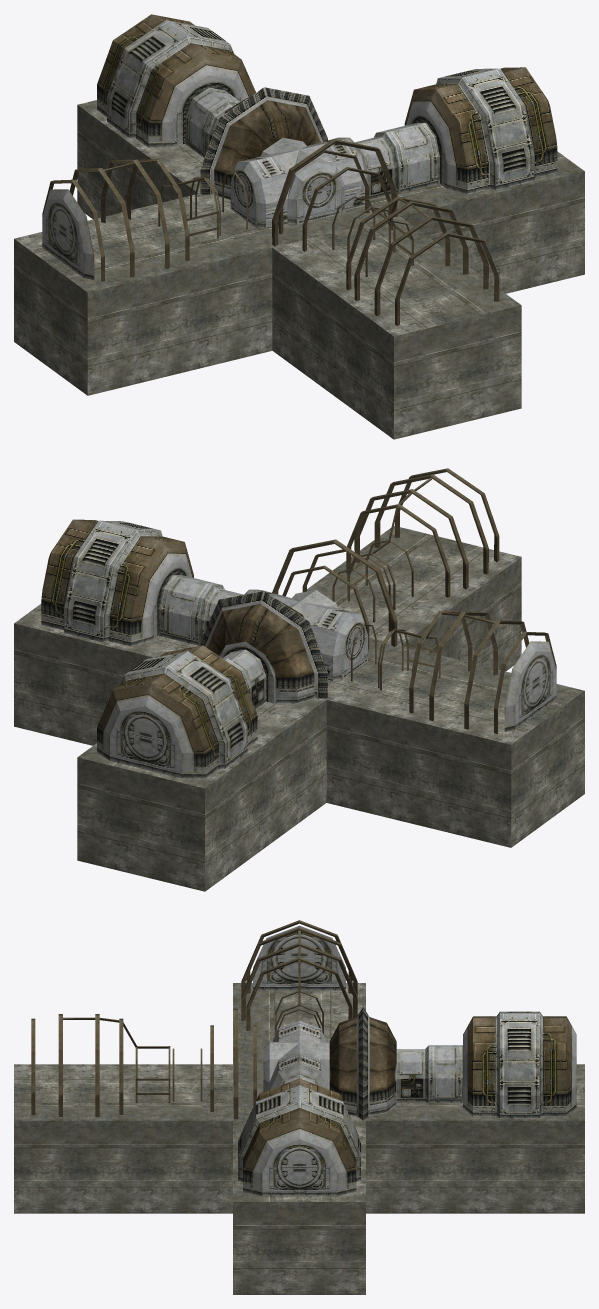
File: ins_shield_generator_const_2_l1.fbx
The picture shows the model from 3 angles, top to bottom: view 1: azimuth 30°, elevation 25°; view 2: azimuth 150°, elevation 25°; view 3: azimuth 270°, elevation 25°; orthographic projection. The views are drawn at different scales.
Visible parts, largest first — view 1: mesh_node; view 2: mesh_node; view 3: mesh_node.
Part boxes in pixels (bbox=[...]): mesh_node: bbox=[14, 14, 584, 439]; mesh_node: bbox=[14, 468, 584, 891]; mesh_node: bbox=[14, 920, 584, 1294].
Size of the model in its own units: 15.76 by 5.91 by 17.39.
